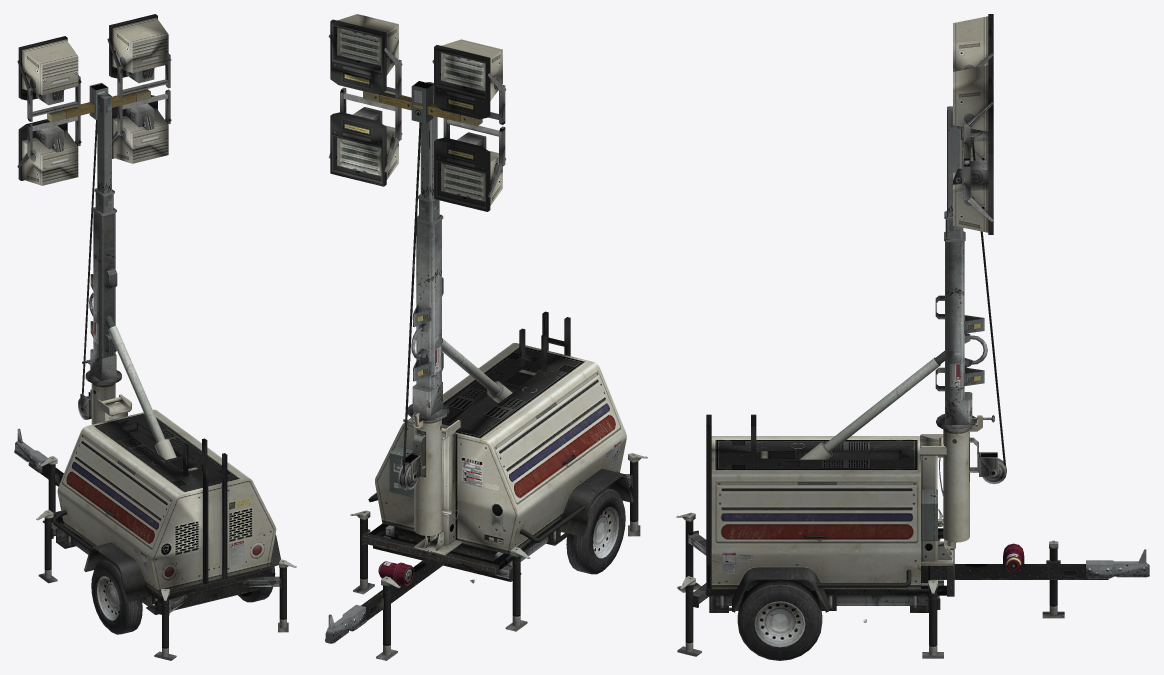
Rendered from floodlight_generator_pose01.obj.
The picture shows the model from 3 angles, left to right: view 1: azimuth 30°, elevation 25°; view 2: azimuth 150°, elevation 25°; view 3: azimuth 270°, elevation 25°; orthographic projection. The views are drawn at different scales.
Visible parts, largest first — view 1: (null); view 2: (null); view 3: (null).
Part boxes in pixels (box(x1,y1,x2,y2)): (null): box(14, 14, 296, 660); (null): box(325, 14, 647, 660); (null): box(676, 14, 1149, 660).
Size of the model in its own units: 61.71 by 195 by 147.
1 material, 1 textured.
